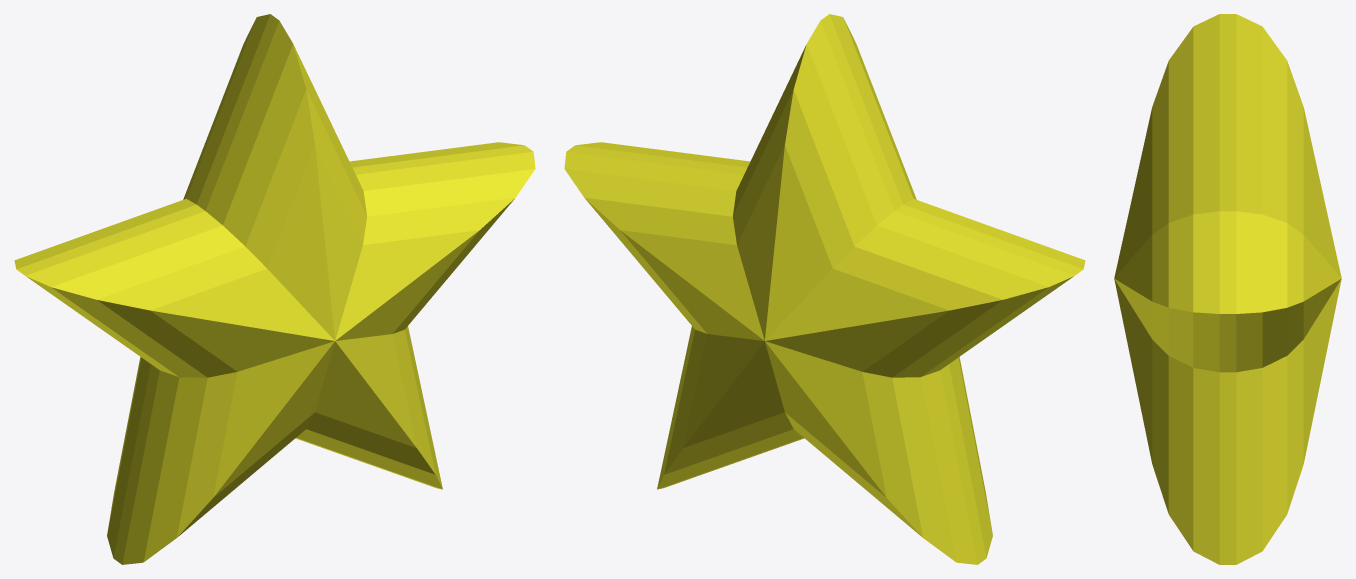
The model's file is Star.glb.
The picture shows the model from 3 angles, left to right: view 1: azimuth 30°, elevation 25°; view 2: azimuth 150°, elevation 25°; view 3: azimuth 270°, elevation 25°; orthographic projection. The views are drawn at different scales.
Visible parts, largest first — view 1: Star; view 2: Star; view 3: Star.
Part boxes in pixels (box(x1,y1,x2,y2)): Star: box(14, 14, 535, 564); Star: box(564, 14, 1085, 564); Star: box(1114, 14, 1341, 564).
Bounding box in the file's own units: 1.07 × 1.02 × 0.4382.
